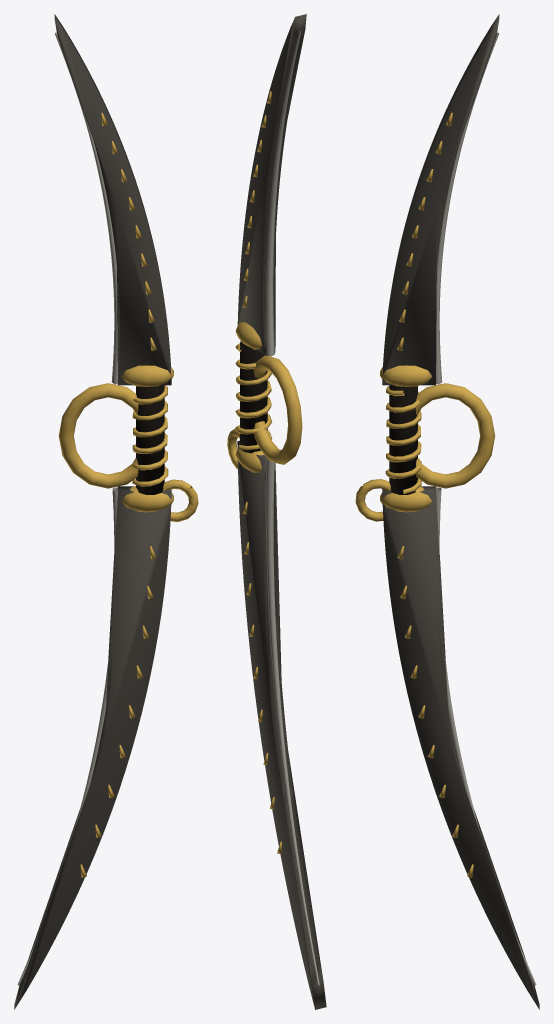
The model's file is gal_blade.glb.
3 views of the same model, side by side, from view 1: azimuth 90°, elevation 25°; view 2: azimuth 210°, elevation 25°; view 3: azimuth 270°, elevation 25° (orthographic).
Visible parts, largest first — view 1: P_blade; view 2: P_blade; view 3: P_blade.
Part boxes in pixels (bbox=[...]): P_blade: bbox=[14, 14, 198, 1009]; P_blade: bbox=[227, 14, 326, 1009]; P_blade: bbox=[355, 14, 539, 1009].
Bounding box in the file's own units: 0.045 × 1.3 × 0.2193.
